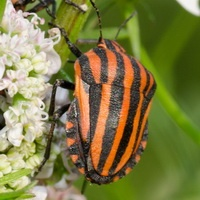insect: (54, 0, 155, 183)
